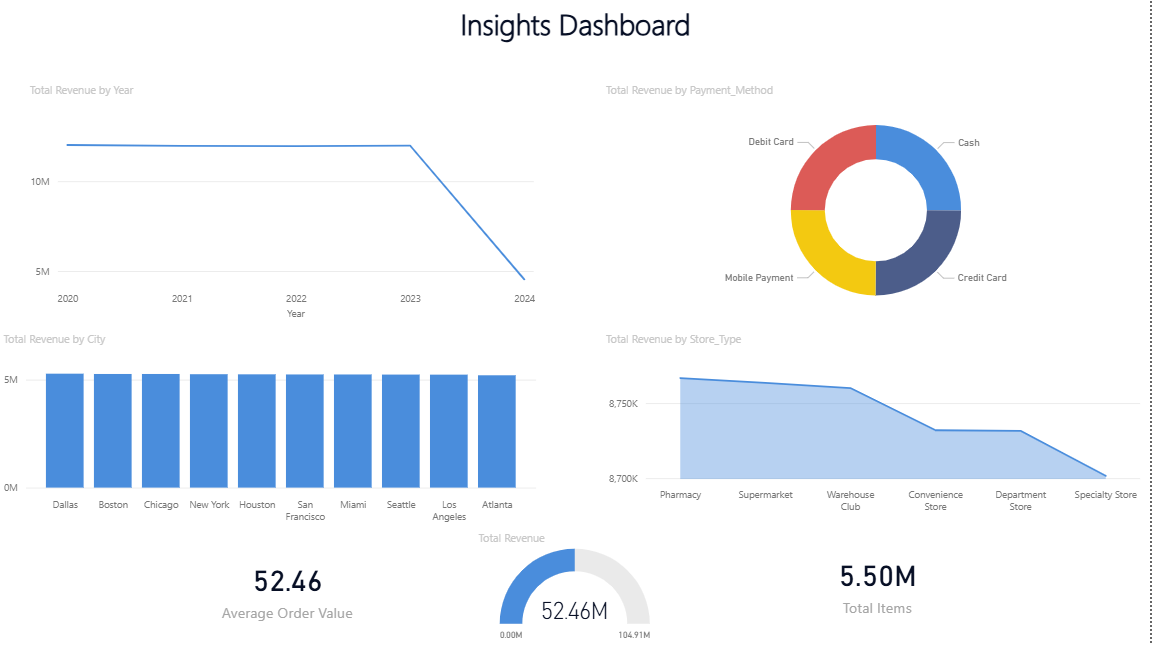

What the dashboard file says about the page in this screenshot:
{"tool":"powerbi","page":{"name":"Insights Dashboard","canvas":[1280,720],"ordinal":1},"visuals":[{"type":"gauge","fields":{"Y":["Retail_Transactions_Dataset.Total Revenue"]},"box":[527.8,589.4,224.3,129.8],"z":0},{"type":"card","fields":{"Values":["Retail_Transactions_Dataset.Average Order Value"]},"box":[208.9,589.4,224.3,129.8],"z":1000},{"type":"card","fields":{"Values":["Retail_Transactions_Dataset.Total Items"]},"box":[864.3,578.4,224.3,140.8],"z":2000},{"type":"lineChart","fields":{"Category":["Retail_Transactions_Dataset.Date.Variation.Date Hierarchy.Year","Retail_Transactions_Dataset.Date.Variation.Date Hierarchy.Quarter","Retail_Transactions_Dataset.Date.Variation.Date Hierarchy.Month","Retail_Transactions_Dataset.Date.Variation.Date Hierarchy.Day"],"Y":["Retail_Transactions_Dataset.Total Revenue"]},"box":[29.8,91.2,571.6,268.3],"z":3000},{"type":"donutChart","fields":{"Y":["Retail_Transactions_Dataset.Total Revenue"],"Category":["Retail_Transactions_Dataset.Payment_Method"]},"box":[669.8,91.2,610.2,268.3],"z":4000},{"type":"textbox","box":[431.3,0,417.3,68.4],"z":5000},{"type":"columnChart","fields":{"Category":["Retail_Transactions_Dataset.City"],"Y":["Retail_Transactions_Dataset.Total Revenue"]},"box":[0,368.2,601.4,220.9],"z":6000},{"type":"areaChart","fields":{"Category":["Retail_Transactions_Dataset.Store_Type"],"Y":["Retail_Transactions_Dataset.Total Revenue"]},"box":[669.8,368.2,610.2,210.4],"z":7000}]}

Visuals, with their boxes in screenshot pixels (x1, y1, x2, y2), scaled from the page's 1280x720 canvas onto the 1152x645 screenshot:
gauge - Retail_Transactions_Dataset.Total Revenue: crop(475, 528, 677, 644)
card - Retail_Transactions_Dataset.Average Order Value: crop(188, 528, 390, 644)
card - Retail_Transactions_Dataset.Total Items: crop(778, 518, 980, 644)
lineChart - Retail_Transactions_Dataset.Date.Variation.Date Hierarchy.Year x Retail_Transactions_Dataset.Date.Variation.Date Hierarchy.Quarter: crop(27, 82, 541, 322)
donutChart - Retail_Transactions_Dataset.Total Revenue x Retail_Transactions_Dataset.Payment_Method: crop(603, 82, 1151, 322)
textbox: crop(388, 0, 764, 61)
columnChart - Retail_Transactions_Dataset.City x Retail_Transactions_Dataset.Total Revenue: crop(0, 330, 541, 528)
areaChart - Retail_Transactions_Dataset.Store_Type x Retail_Transactions_Dataset.Total Revenue: crop(603, 330, 1151, 518)
